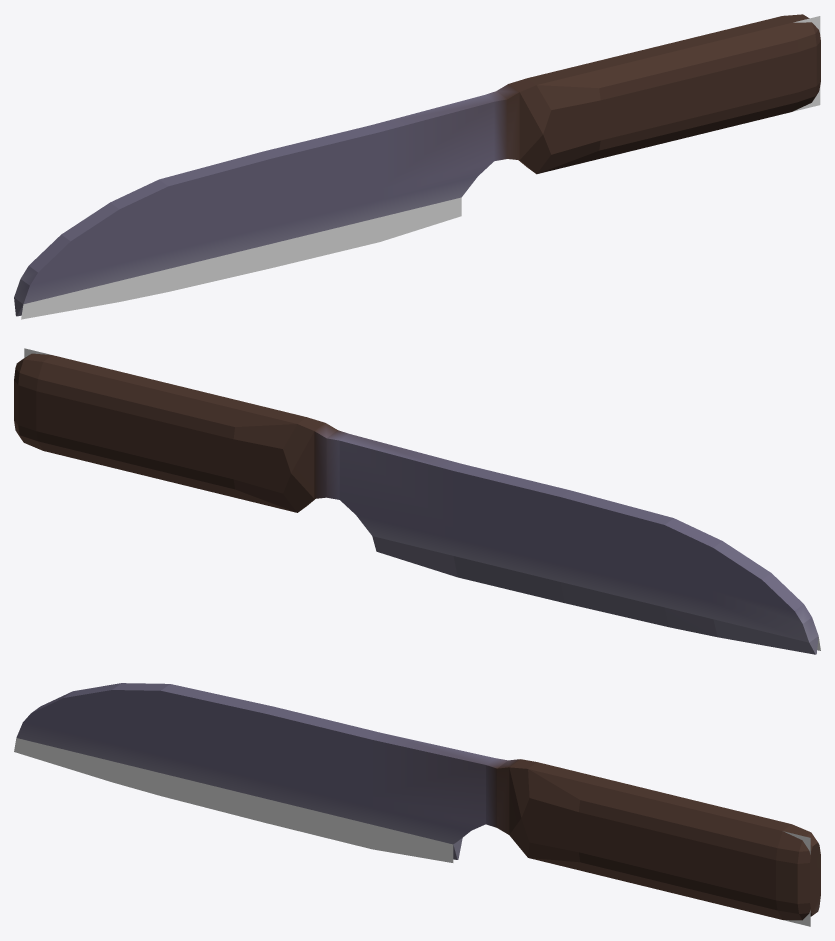
Rendered from Knife.fbx.
3 views of the same model, one above another, from view 1: azimuth 30°, elevation 25°; view 2: azimuth 150°, elevation 25°; view 3: azimuth 330°, elevation 25° (orthographic).
Visible parts, largest first — view 1: Plane, Plane.001; view 2: Plane; view 3: Plane, Plane.001.
Boxes of the visible parts, left/top/right/bottom form: Plane: left=14, top=14, right=820, bottom=316; Plane.001: left=21, top=16, right=820, bottom=319; Plane: left=14, top=353, right=818, bottom=654; Plane: left=16, top=683, right=820, bottom=920; Plane.001: left=14, top=738, right=810, bottom=926.
Bounding box in the file's own units: 981 × 139 × 48.
